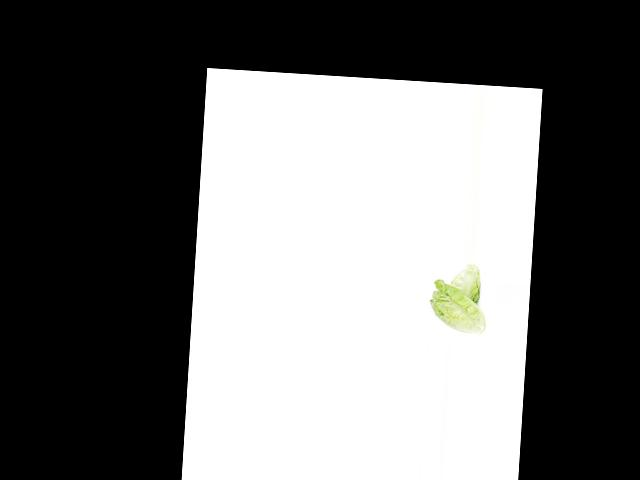lettuce: (447, 261, 485, 304)
